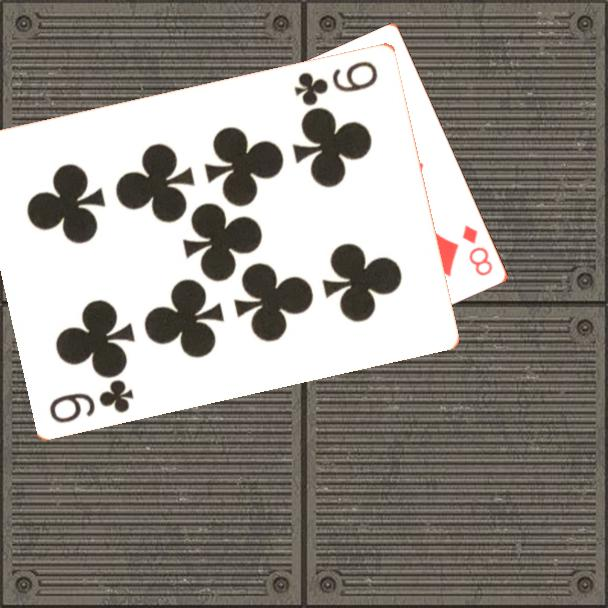c09: (46, 375, 137, 426), (291, 57, 381, 108)
d08: (459, 222, 496, 279)
